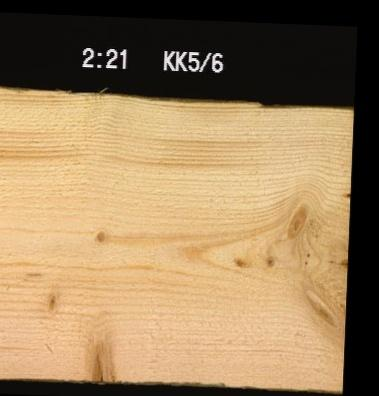small_knot: (42, 287, 61, 312), (261, 249, 277, 269), (92, 226, 108, 245)
split: (300, 249, 346, 269)
wave: (258, 99, 306, 110)
